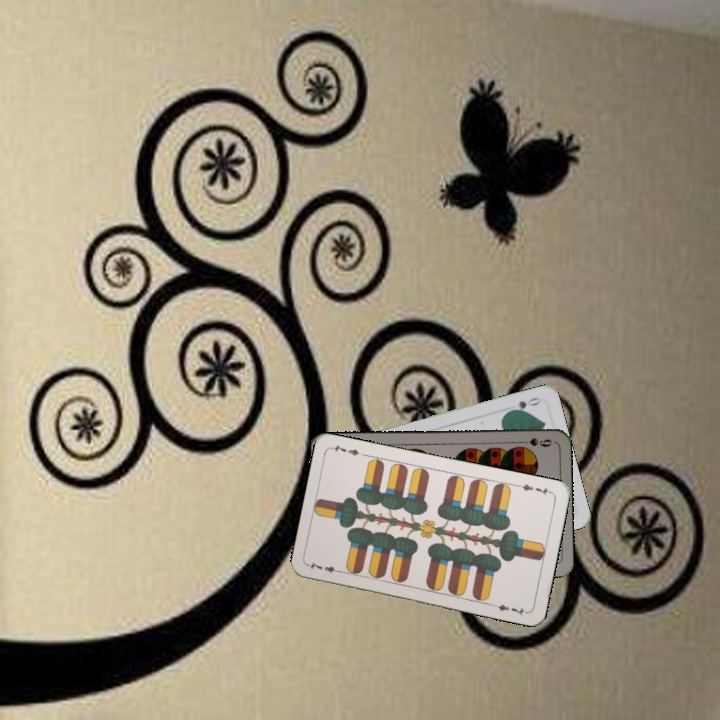E7: (305, 557, 345, 576), (514, 480, 554, 498)
GO: (505, 393, 543, 415)
S9: (514, 434, 555, 449)
